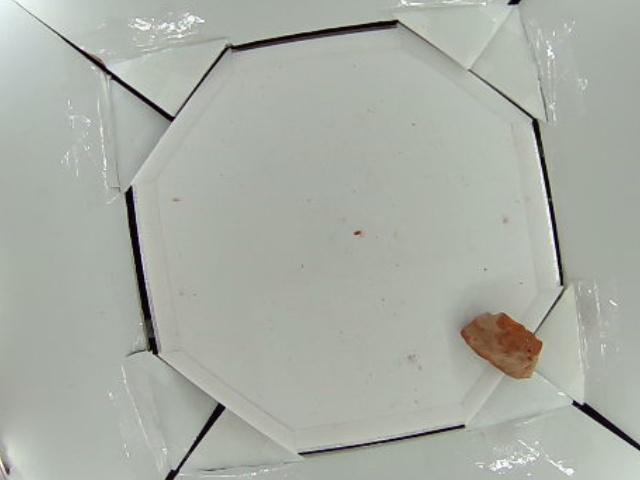Brisk: (460, 311, 543, 381)
